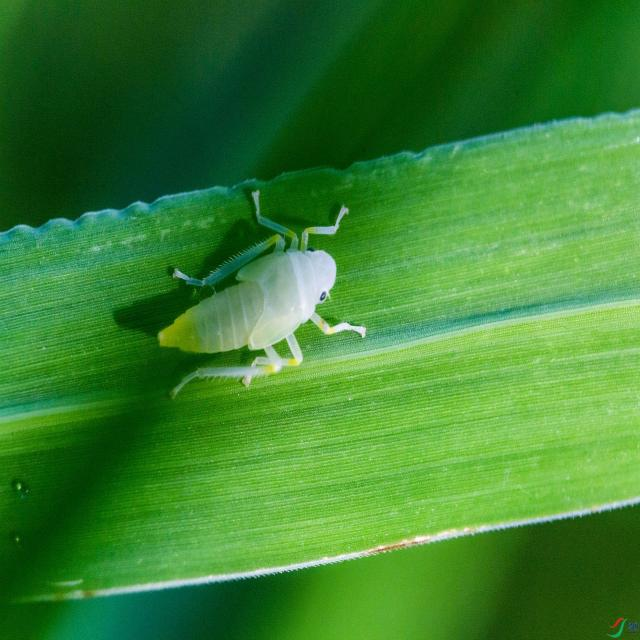Yechan: (160, 182, 353, 404)
